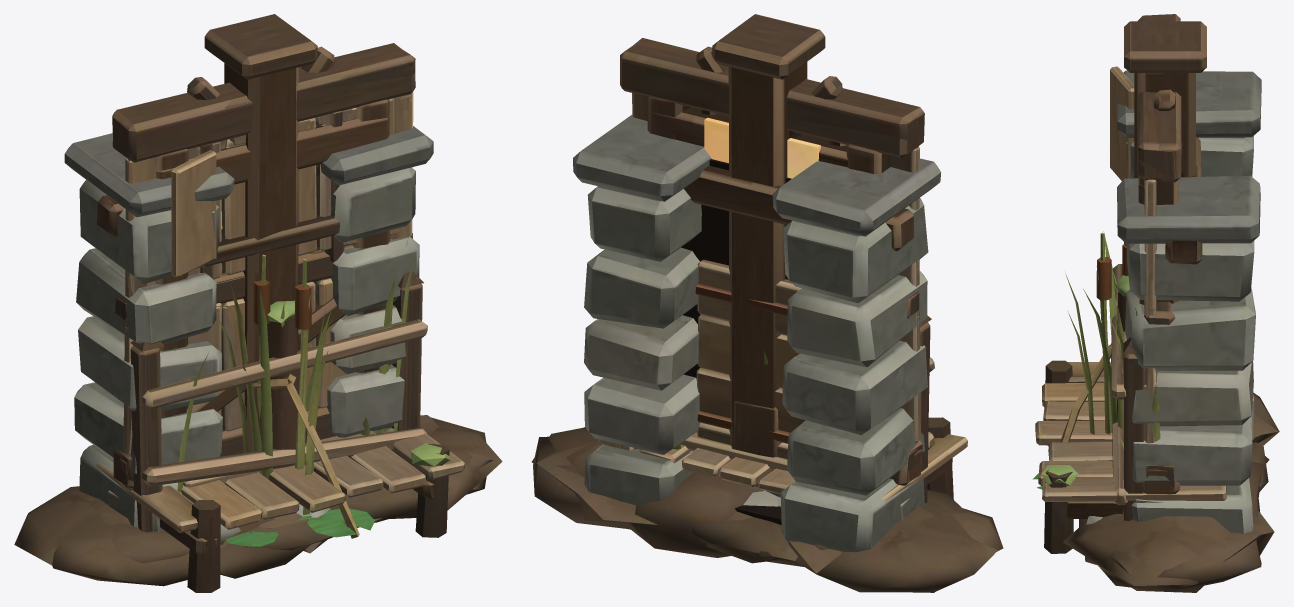
File: env-flooded-mill.glb
3 renders of one model, left to right at view 1: azimuth 30°, elevation 25°; view 2: azimuth 150°, elevation 25°; view 3: azimuth 270°, elevation 25°, orthographic. The views are drawn at different scales.
Parts seen in each view (by area): view 1: sluice, timber-wall, timber-post, walkway, fence, timber-window, timber-doorway, reeds-bank, reeds, reeds-low, mud-bank, post (+1 smaller); view 2: sluice, timber-post, reeds-bank, timber-wall, timber-doorway, mud-bank, walkway, reeds-low, timber-window, timber-post-low, fence; view 3: sluice, walkway, mud-bank, timber-post, fence, timber-window, reeds, reeds-low, reeds-bank, timber-wall, timber-doorway, post.
Boxes of the visible parts, x1=… form: sluice: x1=64, y1=126, x2=433, y2=527; timber-wall: x1=112, y1=43, x2=415, y2=532; timber-post: x1=187, y1=14, x2=334, y2=506; walkway: x1=96, y1=429, x2=465, y2=592; fence: x1=130, y1=271, x2=427, y2=532; timber-window: x1=112, y1=50, x2=415, y2=521; timber-doorway: x1=113, y1=50, x2=414, y2=493; reeds-bank: x1=14, y1=240, x2=492, y2=565; reeds: x1=216, y1=254, x2=338, y2=528; reeds-low: x1=52, y1=417, x2=486, y2=586; mud-bank: x1=88, y1=426, x2=502, y2=578; post: x1=252, y1=300, x2=359, y2=538; sluice: x1=573, y1=115, x2=941, y2=552; timber-post: x1=696, y1=14, x2=842, y2=506; reeds-bank: x1=536, y1=350, x2=997, y2=592; timber-wall: x1=620, y1=43, x2=924, y2=485; timber-doorway: x1=632, y1=38, x2=922, y2=487; mud-bank: x1=531, y1=427, x2=934, y2=566; walkway: x1=598, y1=417, x2=967, y2=501; reeds-low: x1=533, y1=436, x2=1003, y2=592; timber-window: x1=621, y1=38, x2=922, y2=497; timber-post-low: x1=733, y1=401, x2=781, y2=506; fence: x1=920, y1=315, x2=935, y2=502; sluice: x1=1117, y1=70, x2=1261, y2=533; walkway: x1=1035, y1=360, x2=1226, y2=553; mud-bank: x1=1063, y1=420, x2=1269, y2=592; timber-post: x1=1124, y1=21, x2=1206, y2=178; fence: x1=1111, y1=242, x2=1145, y2=521; timber-window: x1=1110, y1=66, x2=1180, y2=491; reeds: x1=1065, y1=231, x2=1128, y2=434; reeds-low: x1=1079, y1=414, x2=1278, y2=592; reeds-bank: x1=1085, y1=275, x2=1279, y2=575; timber-wall: x1=1122, y1=14, x2=1181, y2=519; timber-doorway: x1=1138, y1=97, x2=1183, y2=487; post: x1=1060, y1=275, x2=1129, y2=442.
Bounding box in the file's own units: 1.68 × 1.8 × 0.8357.
2 materials, 2 textured.
